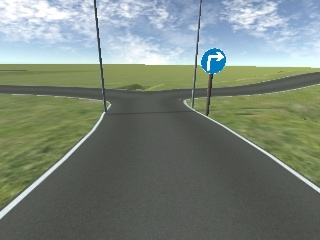turn_right_sign: (194, 44, 230, 76)
